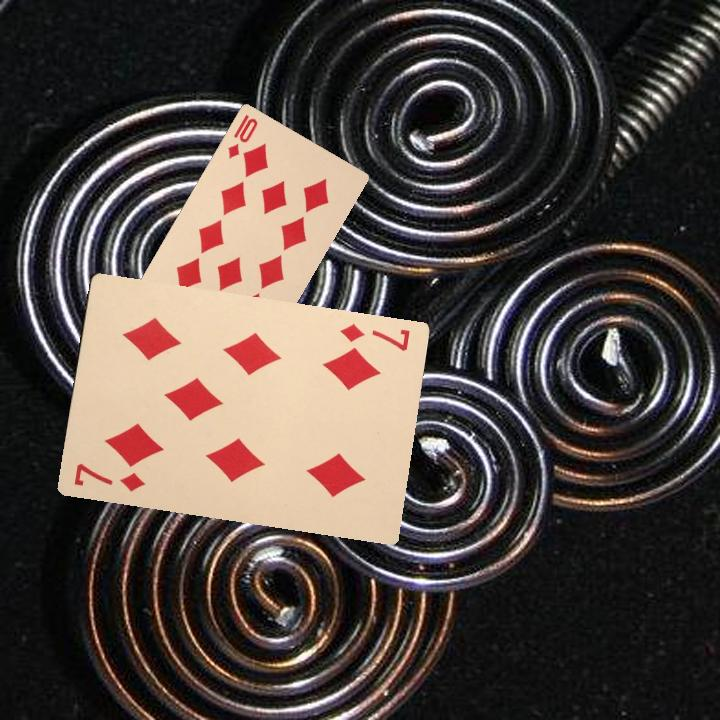10d: (224, 110, 260, 161)
7d: (69, 458, 147, 495), (336, 319, 413, 354)
